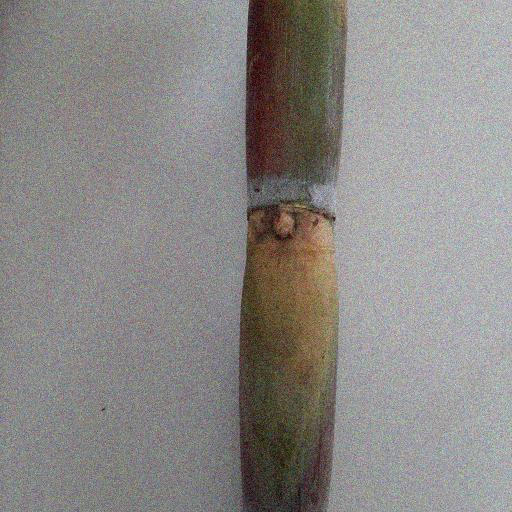Bud: (272, 205, 296, 240)
